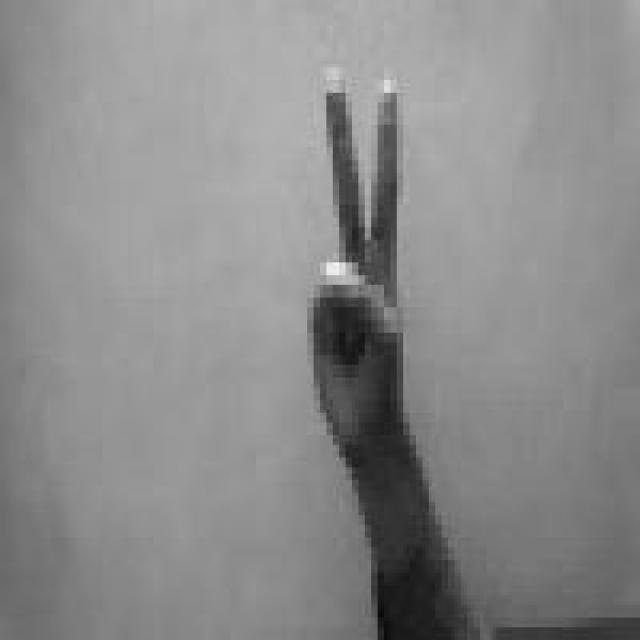V: (302, 64, 414, 470)
